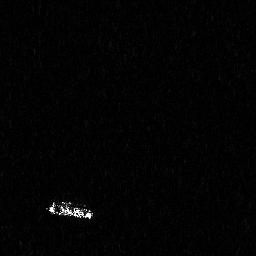ship: (43, 197, 95, 220)
